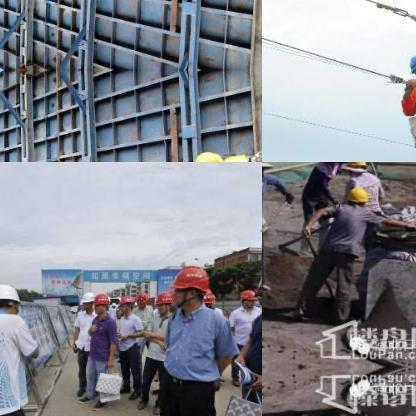Helmet: (169, 264, 207, 306), (0, 281, 21, 316), (345, 184, 369, 206), (192, 147, 225, 161), (219, 148, 254, 161), (153, 288, 171, 312), (252, 267, 261, 307), (198, 285, 214, 307), (239, 286, 255, 308), (343, 162, 368, 176), (405, 50, 415, 79), (117, 294, 133, 312), (92, 292, 106, 312), (79, 290, 93, 310), (134, 289, 148, 307), (320, 162, 345, 171)
